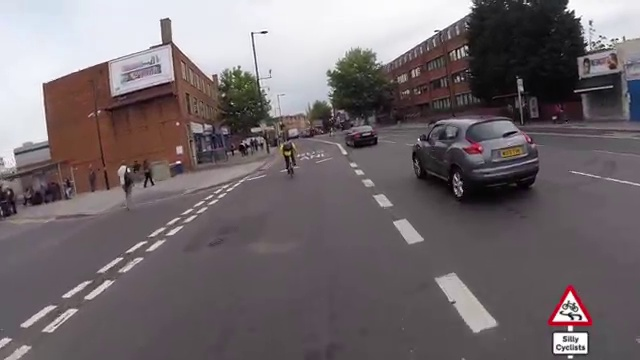cyclist_back: (279, 138, 302, 179)
